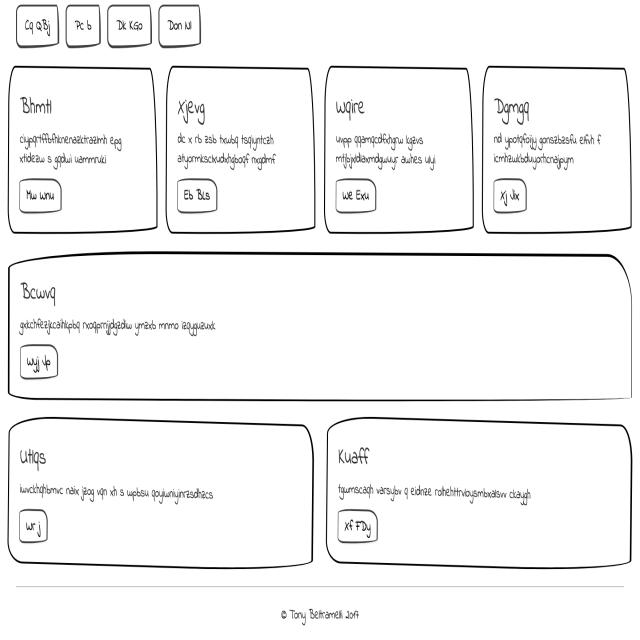Button: (13, 174, 67, 217), (173, 173, 221, 221), (332, 503, 380, 547), (335, 172, 379, 213), (19, 342, 61, 381), (491, 181, 529, 216), (17, 508, 50, 547)
Card: (4, 250, 637, 410), (323, 415, 634, 574), (7, 420, 316, 575), (324, 62, 477, 238), (484, 60, 634, 239), (164, 65, 317, 239), (6, 65, 160, 236)
Footer: (0, 583, 640, 640)
Heading 6: (21, 274, 70, 318), (494, 84, 538, 128), (175, 90, 222, 129), (335, 439, 384, 472), (332, 87, 367, 124), (21, 90, 55, 122), (16, 446, 48, 474)
Navigation Bar: (14, 2, 207, 54)
Paragraph: (336, 474, 535, 509), (16, 476, 225, 506), (492, 125, 613, 176), (17, 315, 225, 342), (172, 125, 287, 173), (17, 126, 125, 172), (334, 126, 439, 173)
